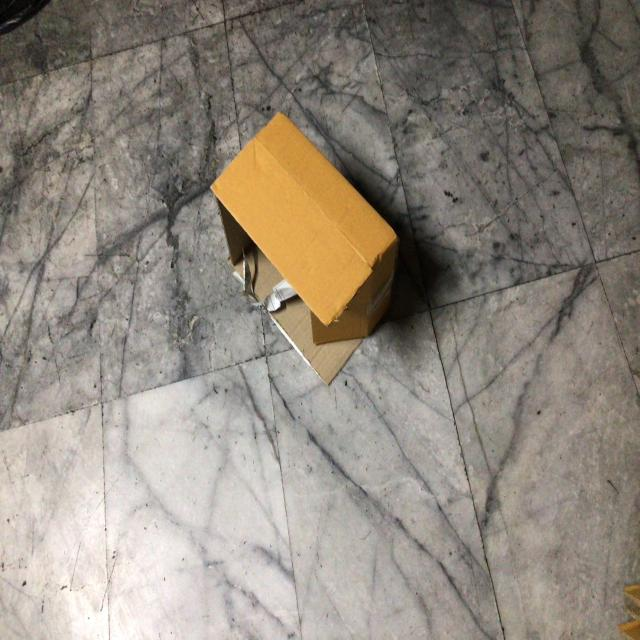cardboard: (212, 115, 396, 385)
